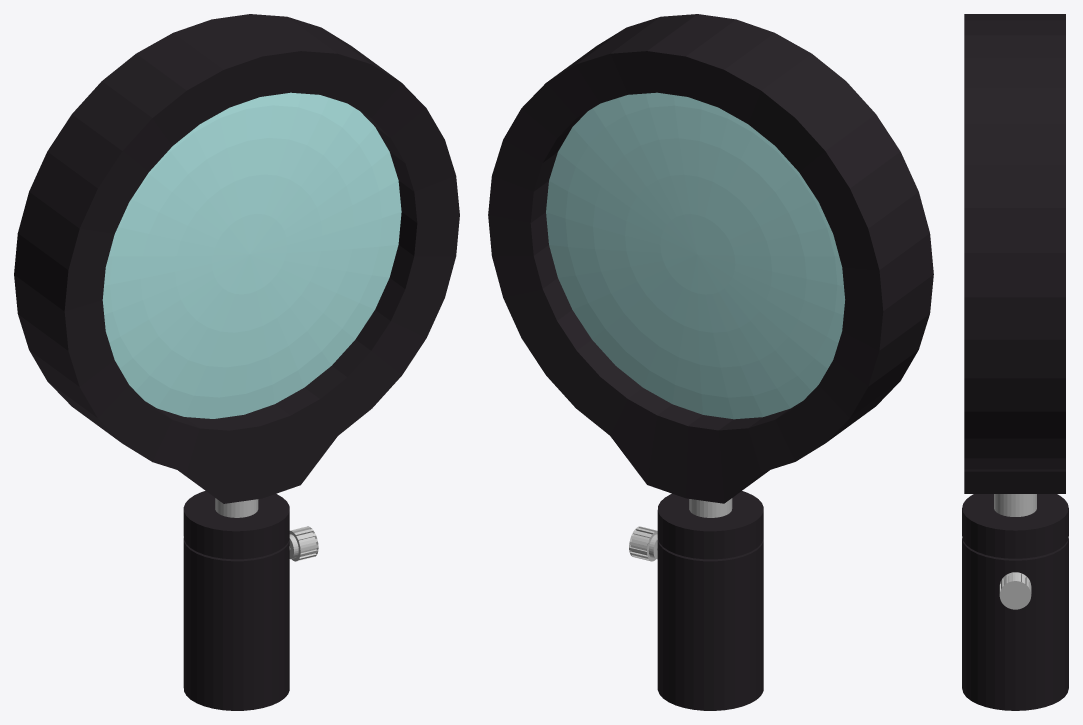
Rendered from lens.glb.
3 views of the same model, side by side, from view 1: azimuth 30°, elevation 25°; view 2: azimuth 150°, elevation 25°; view 3: azimuth 270°, elevation 25° (orthographic).
Parts seen in each view (by area): view 1: 円, 球, 円柱, 円柱.003; view 2: 円, 球, 円柱, 円柱.003; view 3: 円, 円柱, 円柱.003, 円柱.001.
Part boxes in pixels (x1,y1,x2,y2): 円: [14, 14, 459, 503]; 球: [102, 92, 401, 418]; 円柱: [183, 491, 289, 710]; 円柱.003: [289, 526, 318, 561]; 円: [488, 14, 933, 503]; 球: [546, 92, 845, 419]; 円柱: [657, 491, 763, 710]; 円柱.003: [629, 526, 657, 561]; 円: [964, 14, 1065, 493]; 円柱: [962, 494, 1068, 710]; 円柱.003: [999, 572, 1031, 609]; 円柱.001: [994, 494, 1036, 516].
Bounding box in the file's own units: 5.99 × 9.43 × 1.4.
